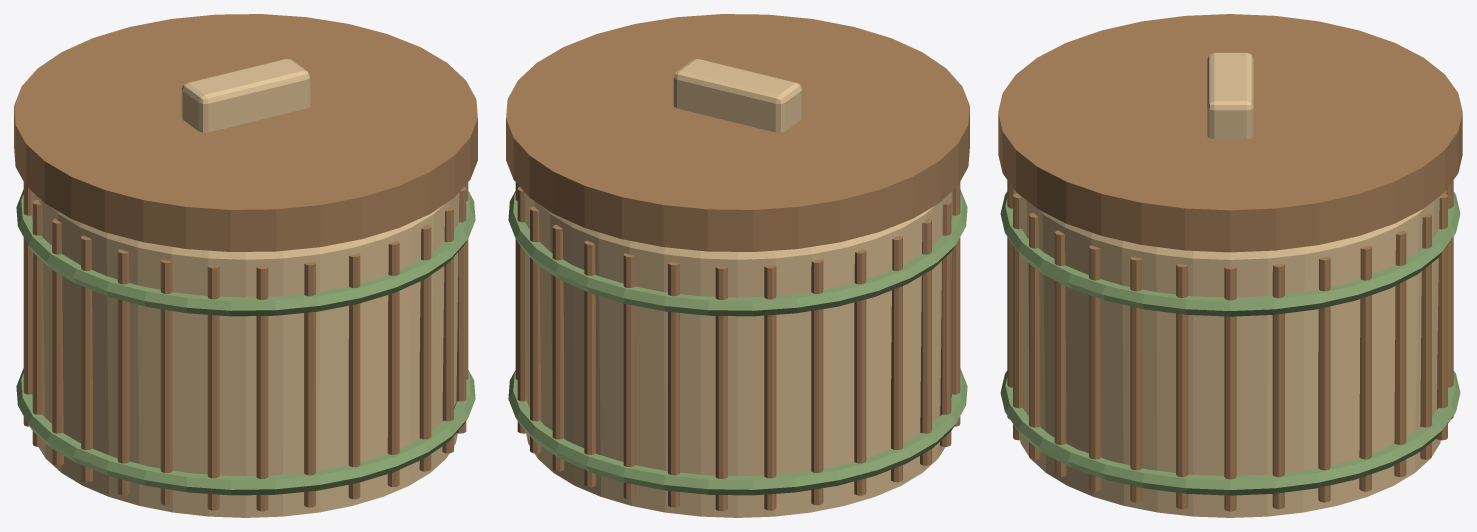
The model's file is kitchen_ohitsu.glb.
3 views of the same model, side by side, from view 1: azimuth 30°, elevation 25°; view 2: azimuth 150°, elevation 25°; view 3: azimuth 270°, elevation 25° (orthographic).
Parts seen in each view (by area): view 1: Thick removable wooden rice lid, Ohitsu straight-grained rice container, Dark bamboo vessel hoops, Dark bamboo vessel hoops.001, Small lifting handle, Vertical cedar strips18, Vertical cedar strips17, Vertical cedar strips19, Vertical cedar strips16, Vertical cedar strips21, Vertical cedar strips23, Vertical cedar strips20 (+7 smaller); view 2: Thick removable wooden rice lid, Ohitsu straight-grained rice container, Dark bamboo vessel hoops, Dark bamboo vessel hoops.001, Small lifting handle, Vertical cedar strips10, Vertical cedar strips9, Vertical cedar strips11, Vertical cedar strips12, Vertical cedar strips7, Vertical cedar strips5, Vertical cedar strips6 (+7 smaller); view 3: Thick removable wooden rice lid, Ohitsu straight-grained rice container, Dark bamboo vessel hoops, Dark bamboo vessel hoops.001, Small lifting handle, Vertical cedar strips0, Vertical cedar strips1, Vertical cedar strips27, Vertical cedar strips2, Vertical cedar strips26, Vertical cedar strips3, Vertical cedar strips25 (+8 smaller).
Boxes of the visible parts, x1,y1,x2,y2 form: Thick removable wooden rice lid: (14,14,477,251); Ohitsu straight-grained rice container: (31,191,459,517); Dark bamboo vessel hoops: (16,368,475,495); Dark bamboo vessel hoops.001: (16,189,475,316); Small lifting handle: (181,59,310,132); Vertical cedar strips18: (207,265,219,510); Vertical cedar strips17: (160,259,172,505); Vertical cedar strips19: (256,266,268,511); Vertical cedar strips16: (117,249,129,495); Vertical cedar strips21: (348,253,360,499); Vertical cedar strips23: (419,224,431,471); Vertical cedar strips20: (304,262,315,507); Thick removable wooden rice lid: (506,14,969,251); Ohitsu straight-grained rice container: (524,191,952,517); Dark bamboo vessel hoops: (508,368,967,495); Dark bamboo vessel hoops.001: (508,189,967,316); Small lifting handle: (673,59,802,132); Vertical cedar strips10: (764,265,776,510); Vertical cedar strips9: (715,266,727,511); Vertical cedar strips11: (811,259,823,505); Vertical cedar strips12: (854,249,866,495); Vertical cedar strips7: (623,253,635,499); Vertical cedar strips5: (552,224,564,471); Vertical cedar strips6: (584,240,596,486); Thick removable wooden rice lid: (998,14,1462,252); Ohitsu straight-grained rice container: (1014,190,1446,517); Dark bamboo vessel hoops: (1000,371,1460,495); Dark bamboo vessel hoops.001: (1000,192,1460,316); Small lifting handle: (1207,52,1253,139); Vertical cedar strips0: (1224,266,1236,511); Vertical cedar strips1: (1272,263,1284,509); Vertical cedar strips27: (1176,263,1188,509); Vertical cedar strips2: (1318,256,1330,502); Vertical cedar strips26: (1130,256,1142,502); Vertical cedar strips3: (1359,245,1371,491); Vertical cedar strips25: (1089,245,1101,491).
Bounding box in the file's own units: 1.95 × 1.69 × 1.95.
